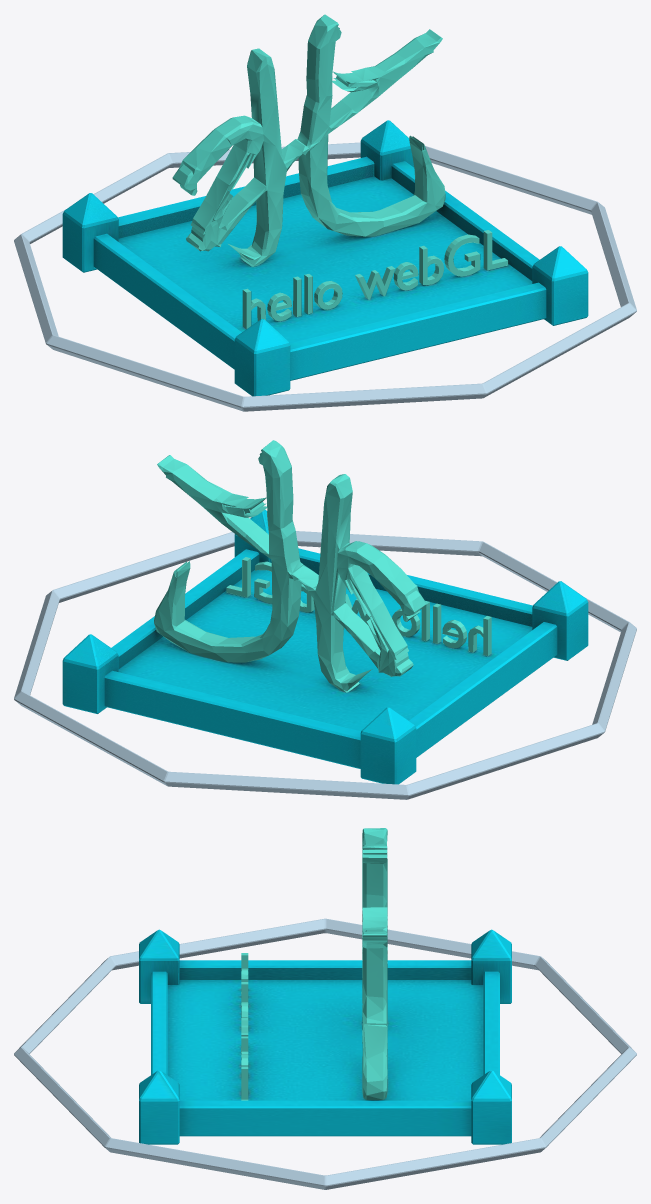
Rendered from hellowebgl7.glb.
3 renders of one model, top to bottom at view 1: azimuth 30°, elevation 25°; view 2: azimuth 150°, elevation 25°; view 3: azimuth 270°, elevation 25°, orthographic. The views are drawn at different scales.
Parts seen in each view (by area): view 1: 立方体, bei, 环体, 文本; view 2: 立方体, bei, 环体, 文本; view 3: 立方体, 环体, bei, 文本.
Part boxes in pixels (x1,y1,x2,y2): 立方体: (62,120,588,396); bei: (172,14,445,266); 环体: (14,142,636,411); 文本: (242,230,508,328); 立方体: (62,510,588,784); bei: (154,440,426,692); 环体: (14,531,636,799); 文本: (226,557,491,656); 立方体: (139,929,511,1144); 环体: (14,918,636,1189); bei: (362,828,387,1099); 文本: (241,953,248,1100).
Bounding box in the file's own units: 3.75 × 1.56 × 3.75.
3 materials, 1 textured.
